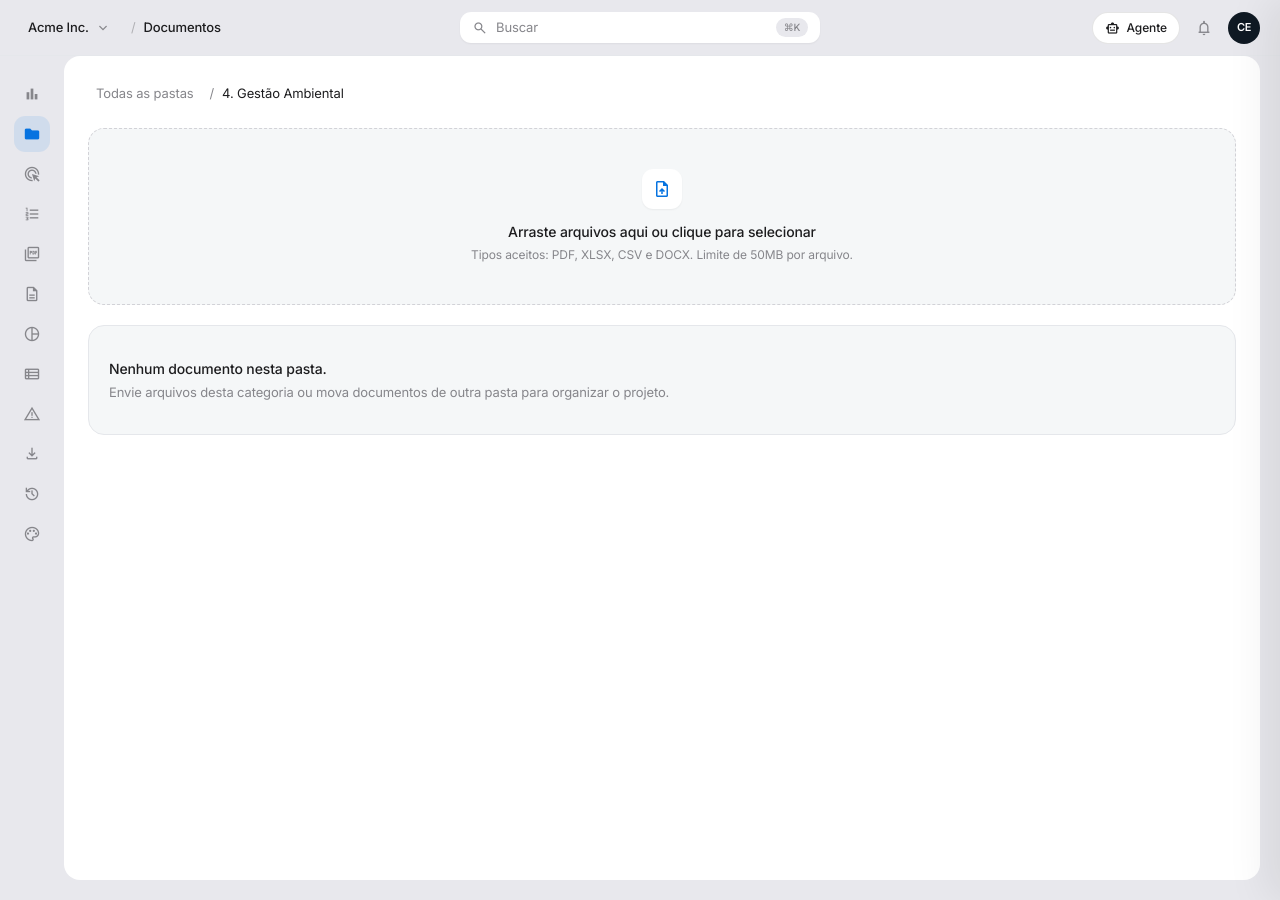
project pages › preserves the current subroute when changing project from the selector
The image size is (1280, 900).
Click the button with aria-label "selecionar projeto": (69, 28) [20,12,119,43]
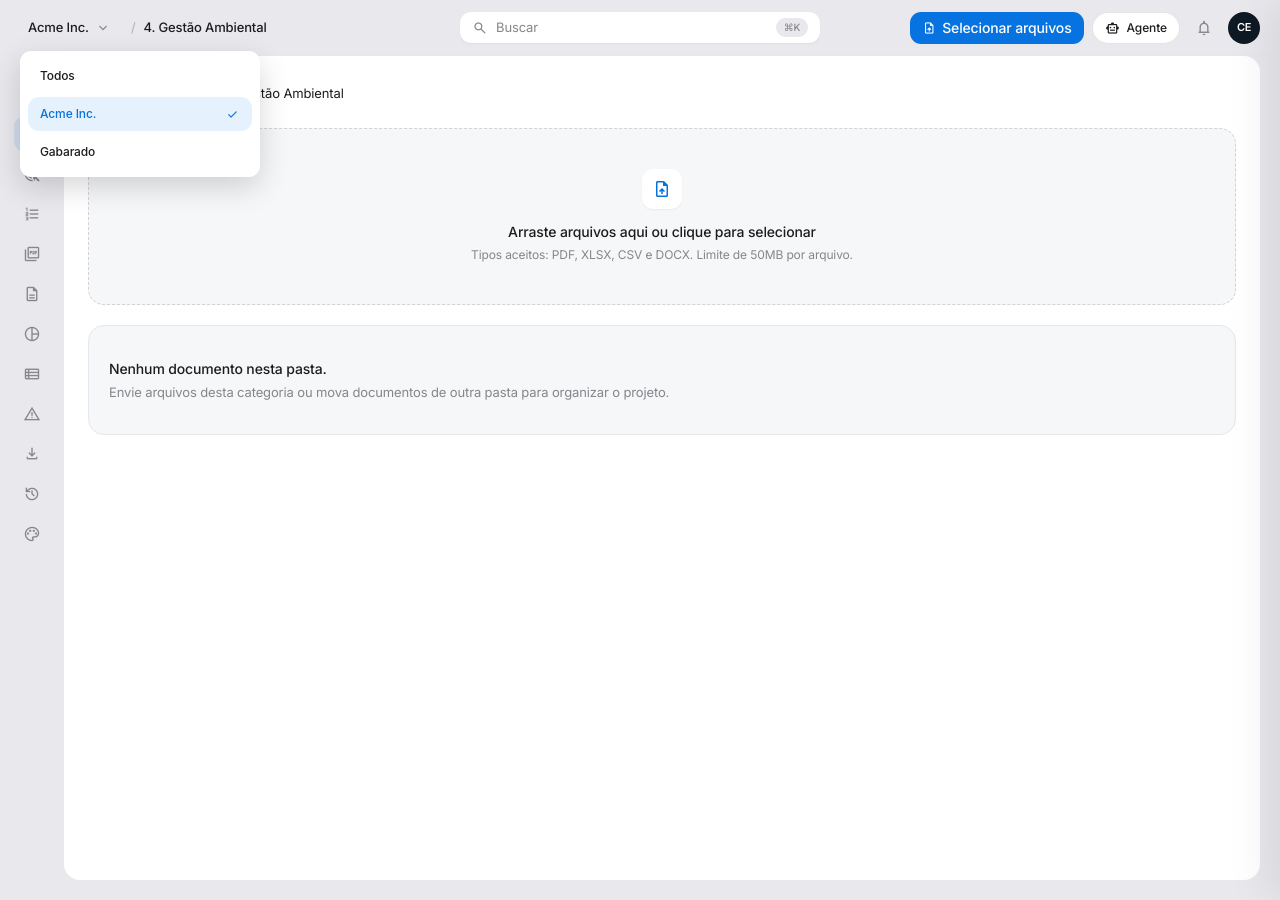
Click the 3rd link named "gabarado": (68, 152) [40,144,95,159]
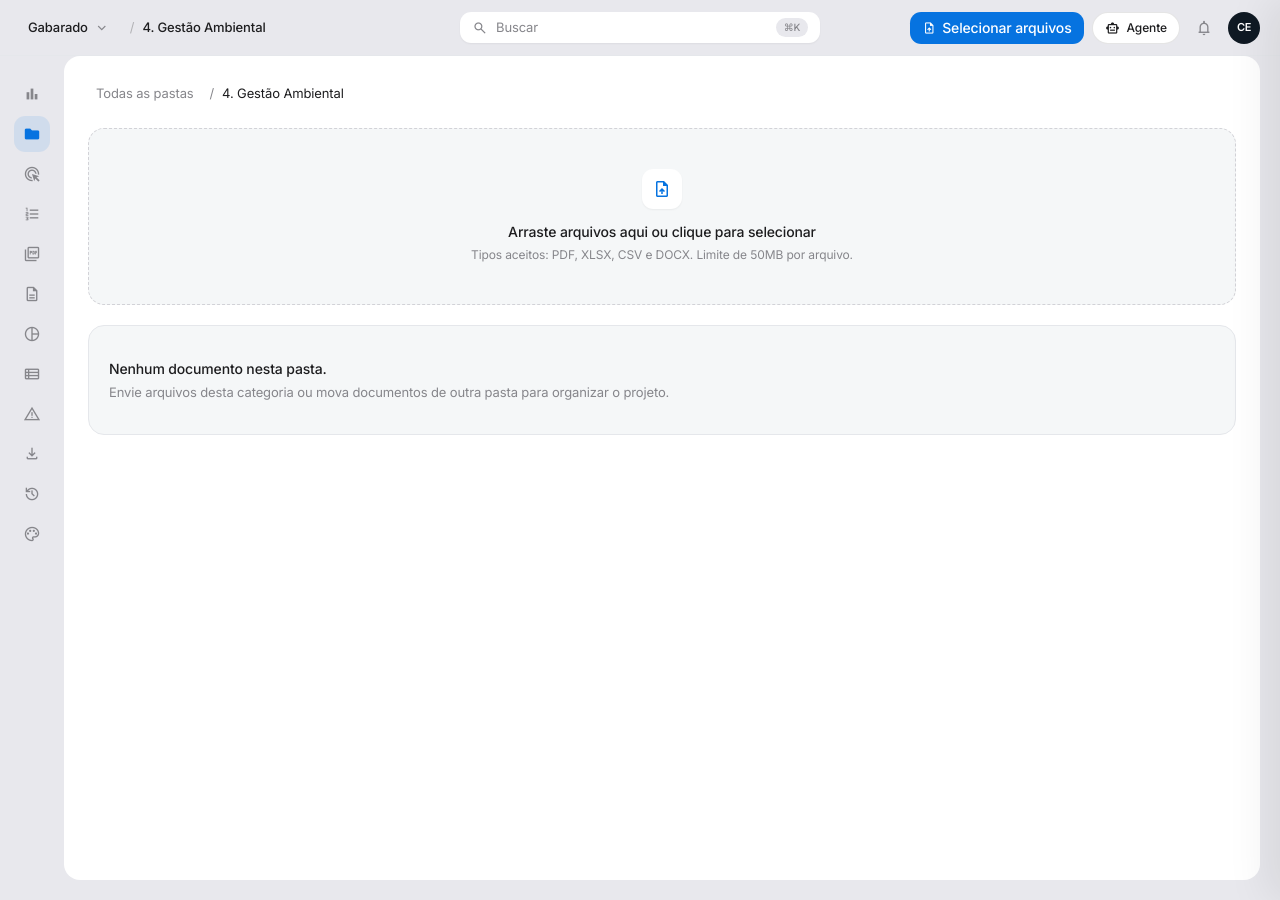
Expected: the button "Arraste arquivos aqui ou clique para selecionar" is shown, [88,128,1236,304]
Now the button with aria-label "selecionar projeto" reads "Gabarado", box [20,12,118,43]
